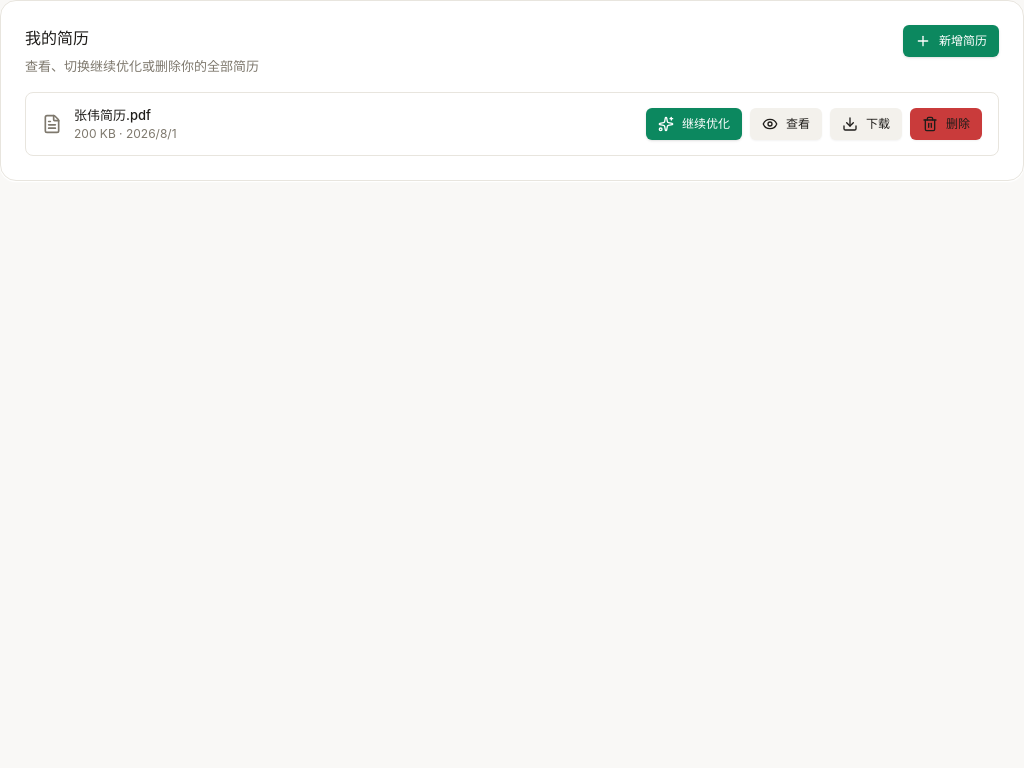
Test: ResumeCenter(我的简历 Tab,4.13) › 删除取消:不调接口
Click the button "删除". click: (946, 124)
box: x1=910 y1=108 x2=982 y2=140
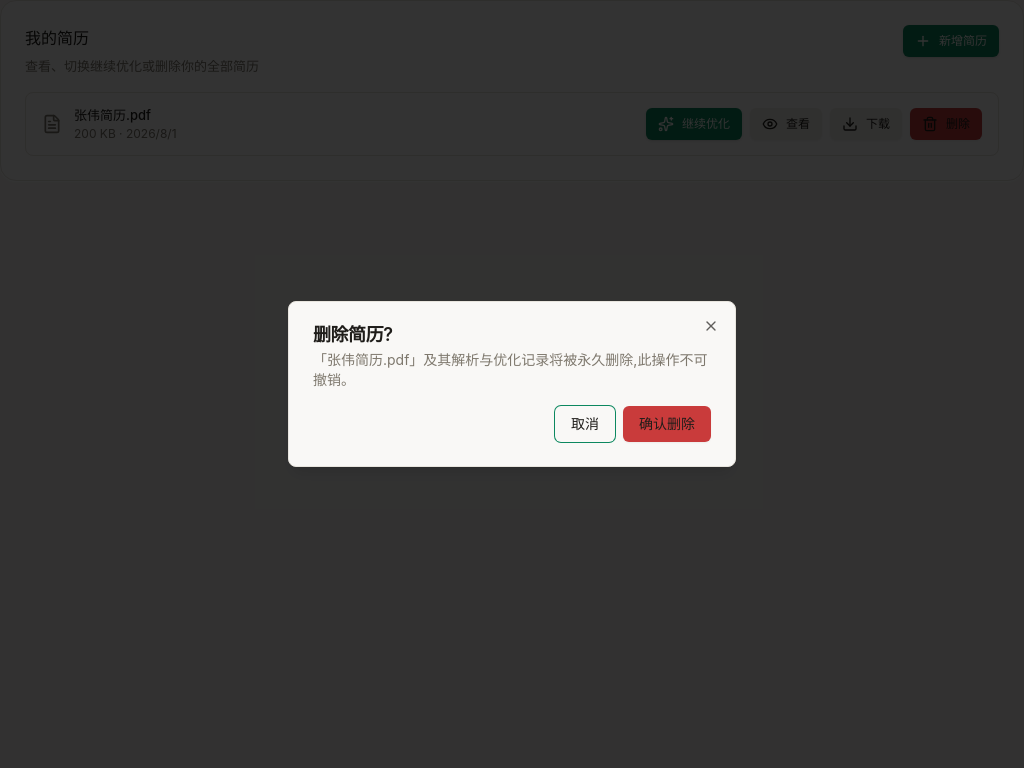
Click the button "取消". click: (585, 424)
box: x1=555 y1=406 x2=615 y2=442
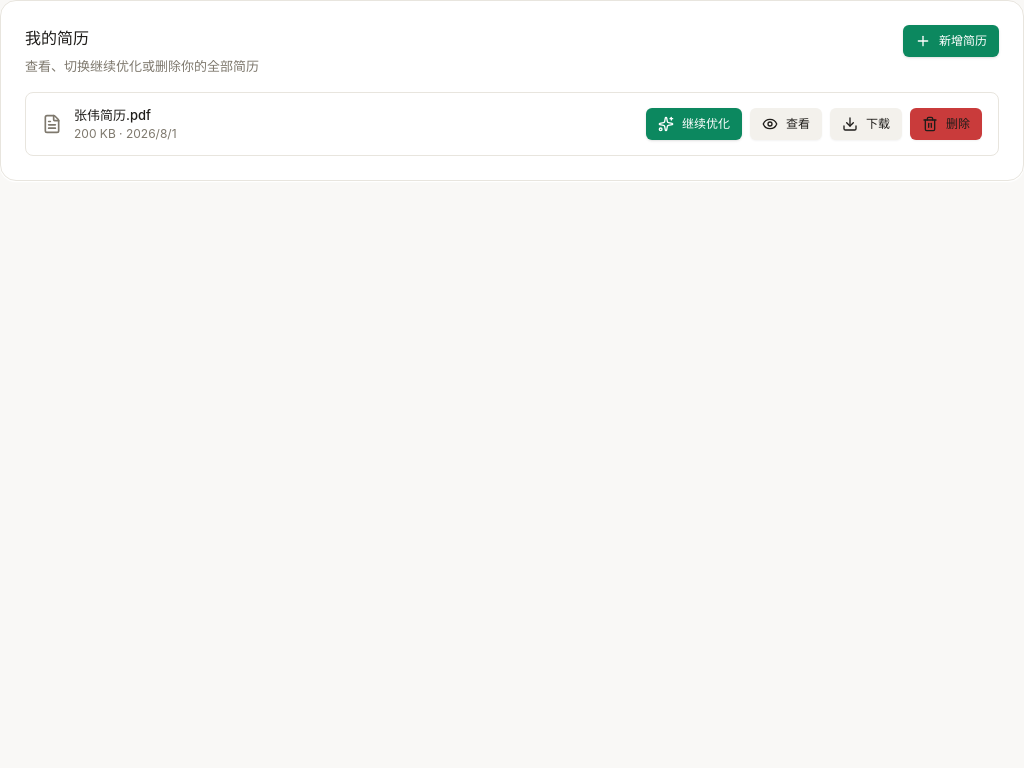
Now the dialog is gone
